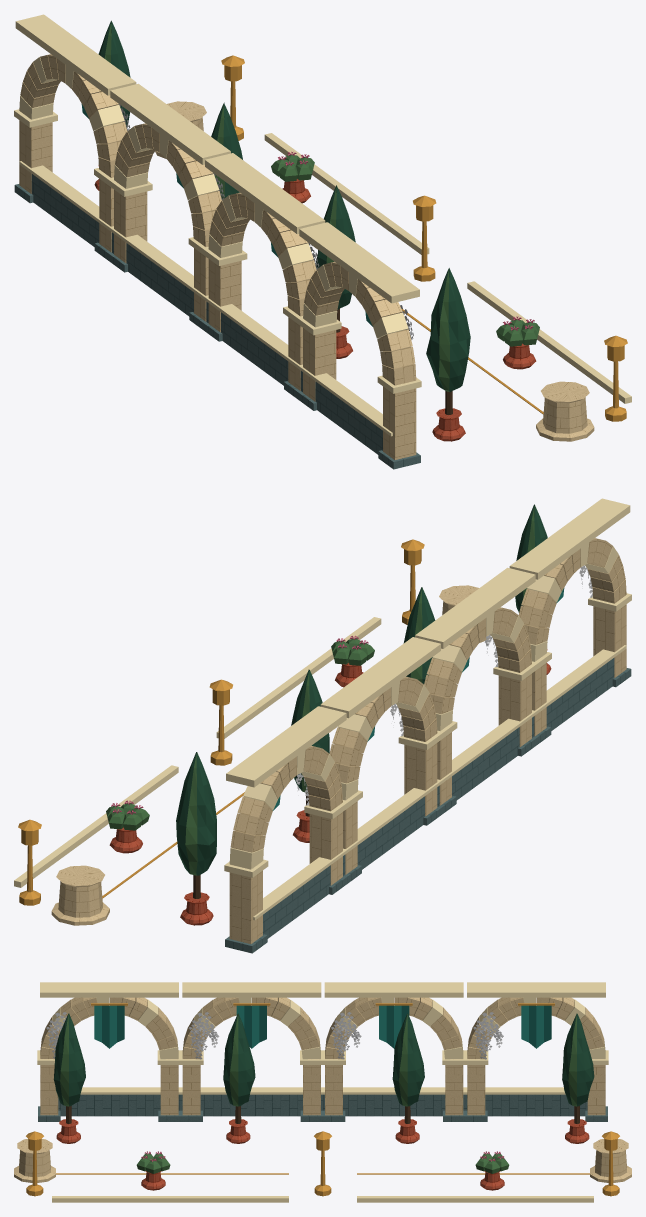
The model's file is district-west.obj.
3 renders of one model, top to bottom at view 1: azimuth 30°, elevation 25°; view 2: azimuth 150°, elevation 25°; view 3: azimuth 270°, elevation 25°, orthographic. The views are drawn at different scales.
Bounding box in the file's own units: 12.73 × 8.43 × 36.47.
12 materials, 4 textured.
